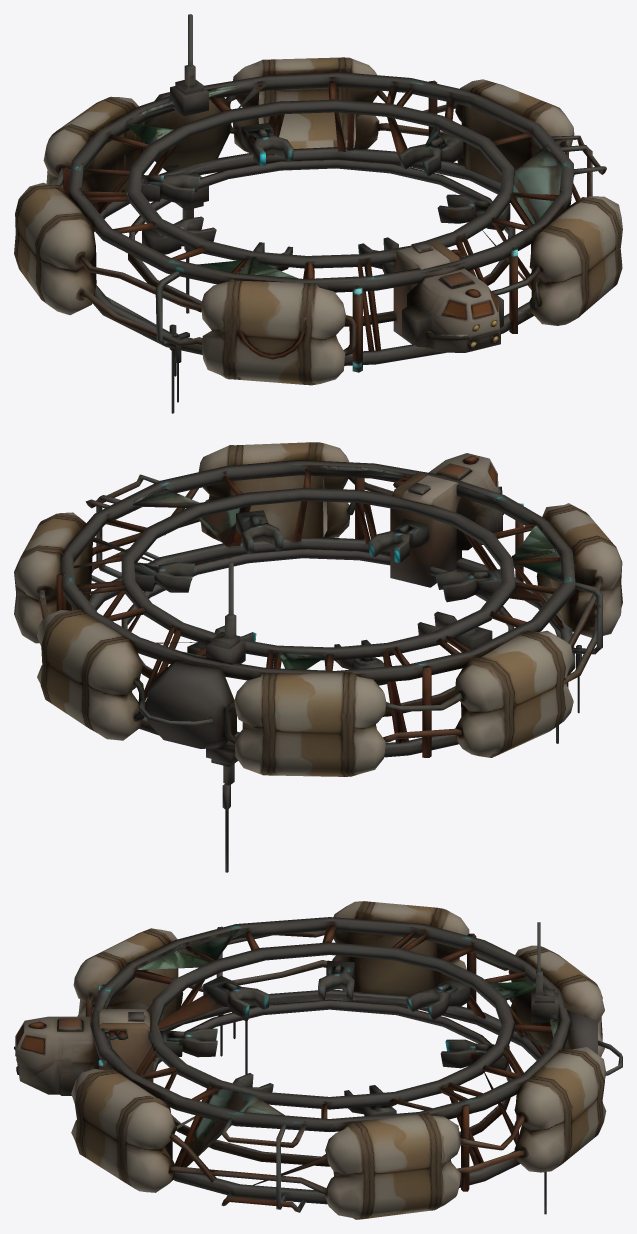
The model's file is original_glb.glb.
3 renders of one model, top to bottom at view 1: azimuth 30°, elevation 25°; view 2: azimuth 150°, elevation 25°; view 3: azimuth 270°, elevation 25°, orthographic. The views are drawn at different scales.
Parts seen in each view (by area): view 1: LEO Transfer Ring; view 2: LEO Transfer Ring; view 3: LEO Transfer Ring.
Part boxes in pixels (x1,y1,x2,y2): LEO Transfer Ring: (14,14,622,413); LEO Transfer Ring: (14,442,622,872); LEO Transfer Ring: (14,901,622,1219).
Bounding box in the file's own units: 0.959 × 0.5254 × 0.998.
Materials: 1 (1 with a texture image).
